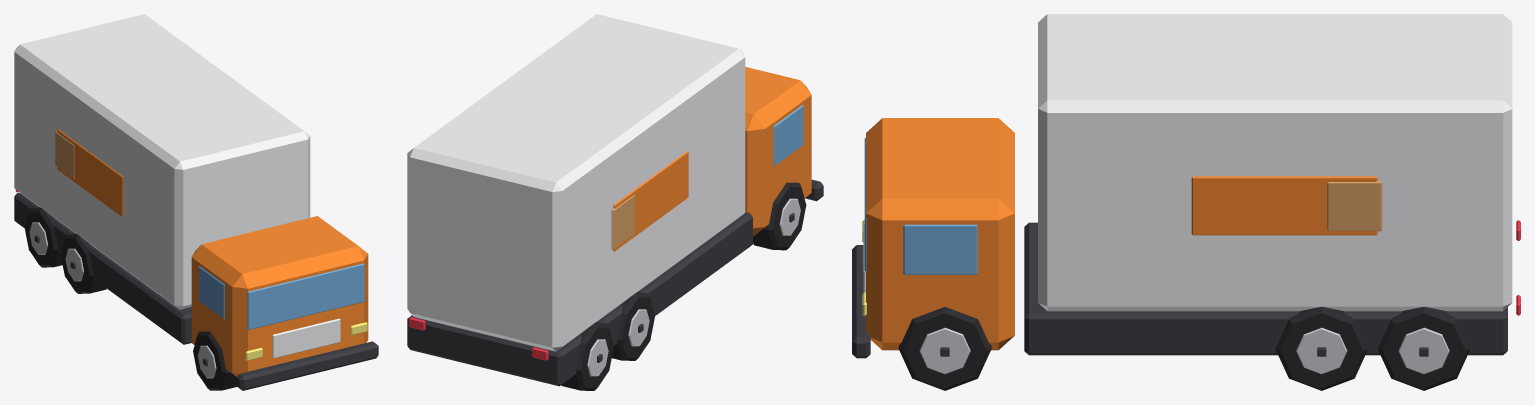
File: DeliveryTruck.fbx
3 renders of one model, left to right at view 1: azimuth 30°, elevation 25°; view 2: azimuth 150°, elevation 25°; view 3: azimuth 270°, elevation 25°, orthographic. The views are drawn at different scales.
Visible parts, largest first — view 1: DeliveryTruck, DeliveryTruck_WheelFR, DeliveryTruck_WheelMR, DeliveryTruck_WheelBR; view 2: DeliveryTruck, DeliveryTruck_WheelFR, DeliveryTruck_WheelBR, DeliveryTruck_WheelMR; view 3: DeliveryTruck, DeliveryTruck_WheelBL, DeliveryTruck_WheelML, DeliveryTruck_WheelFL.
Boxes of the visible parts, x1,y1,x2,y2 form: DeliveryTruck: (14,14,378,390); DeliveryTruck_WheelFR: (193,331,236,390); DeliveryTruck_WheelMR: (60,233,106,293); DeliveryTruck_WheelBR: (24,207,62,267); DeliveryTruck: (407,14,823,386); DeliveryTruck_WheelFR: (753,182,806,250); DeliveryTruck_WheelBR: (561,322,613,390); DeliveryTruck_WheelMR: (612,292,655,360); DeliveryTruck: (852,14,1520,358); DeliveryTruck_WheelBL: (1377,306,1470,390); DeliveryTruck_WheelML: (1275,306,1367,390); DeliveryTruck_WheelFL: (898,307,991,390).
Bounding box in the file's own units: 5.22 × 6.8 × 14.38.
1 material, 1 textured.
